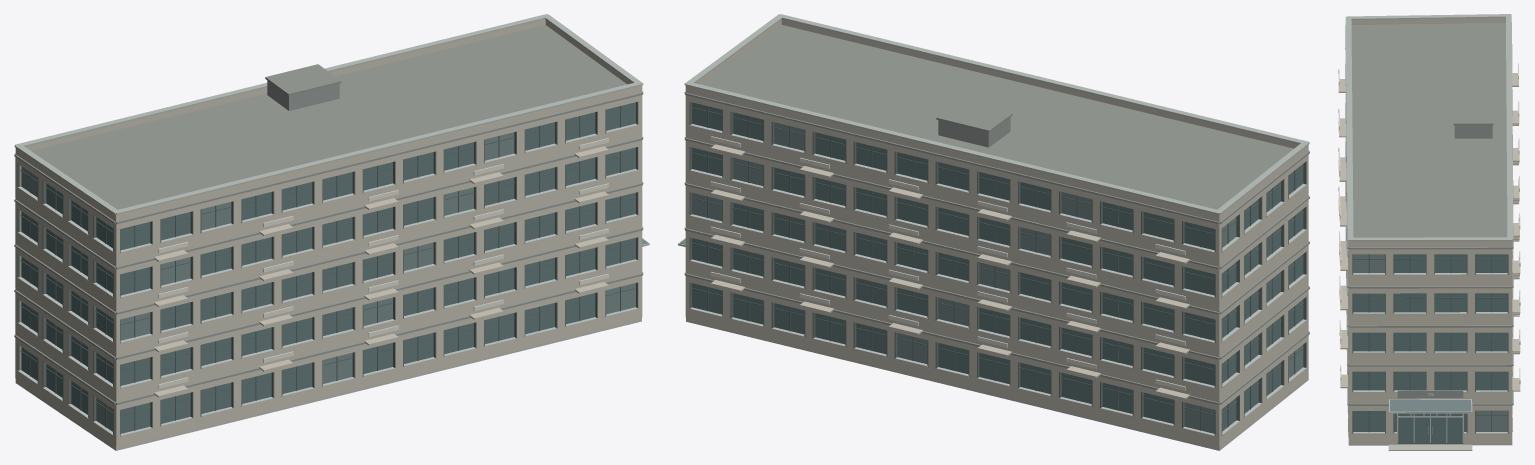
Rendered from mapped_1135360036.glb.
The picture shows the model from 3 angles, left to right: view 1: azimuth 30°, elevation 25°; view 2: azimuth 150°, elevation 25°; view 3: azimuth 270°, elevation 25°; orthographic projection. The views are drawn at different scales.
Visible parts, largest first — view 1: mapped_1135360036_HousingWarm, mapped_1135360036_WindowGlass, mapped_1135360036_FacultyRoof, mapped_1135360036_WindowReveal, mapped_1135360036_FacultyDarkPanel, mapped_1135360036_WindowAluminium, mapped_1135360036_Teaching5TileJoint, mapped_1135360036_WindowGlassLight, mapped_1135360036_WindowRubber, mapped_1135360036_WhiteTrim, mapped_1135360036_EntryStone; view 2: mapped_1135360036_HousingWarm, mapped_1135360036_WindowGlass, mapped_1135360036_FacultyRoof, mapped_1135360036_WindowReveal, mapped_1135360036_WindowAluminium, mapped_1135360036_FacultyDarkPanel, mapped_1135360036_Teaching5TileJoint, mapped_1135360036_WindowRubber, mapped_1135360036_WindowGlassLight, mapped_1135360036_WhiteTrim, mapped_1135360036_EntryStone; view 3: mapped_1135360036_FacultyRoof, mapped_1135360036_HousingWarm, mapped_1135360036_WindowGlass, mapped_1135360036_Teaching5TileJoint, mapped_1135360036_FacultyDarkPanel, mapped_1135360036_WindowAluminium, mapped_1135360036_WindowGlassLight, mapped_1135360036_WindowReveal, mapped_1135360036_WindowRubber, mapped_1135360036_EntryStone, mapped_1135360036_WhiteTrim.
Boxes of the visible parts, bbox=[...] form: mapped_1135360036_HousingWarm: bbox=[15, 19, 642, 448]; mapped_1135360036_WindowGlass: bbox=[21, 102, 635, 433]; mapped_1135360036_FacultyRoof: bbox=[31, 25, 626, 209]; mapped_1135360036_WindowReveal: bbox=[17, 101, 638, 436]; mapped_1135360036_FacultyDarkPanel: bbox=[14, 80, 643, 404]; mapped_1135360036_WindowAluminium: bbox=[17, 123, 649, 436]; mapped_1135360036_Teaching5TileJoint: bbox=[14, 14, 643, 214]; mapped_1135360036_WindowGlassLight: bbox=[21, 132, 647, 431]; mapped_1135360036_WindowRubber: bbox=[20, 106, 636, 430]; mapped_1135360036_WhiteTrim: bbox=[158, 138, 608, 388]; mapped_1135360036_EntryStone: bbox=[15, 319, 641, 450]; mapped_1135360036_HousingWarm: bbox=[685, 19, 1308, 448]; mapped_1135360036_WindowGlass: bbox=[692, 102, 1303, 431]; mapped_1135360036_FacultyRoof: bbox=[701, 25, 1293, 209]; mapped_1135360036_WindowReveal: bbox=[689, 102, 1306, 436]; mapped_1135360036_WindowAluminium: bbox=[678, 124, 1306, 436]; mapped_1135360036_FacultyDarkPanel: bbox=[684, 92, 1309, 404]; mapped_1135360036_Teaching5TileJoint: bbox=[684, 14, 1309, 214]; mapped_1135360036_WindowRubber: bbox=[691, 106, 1303, 430]; mapped_1135360036_WindowGlassLight: bbox=[680, 122, 1303, 433]; mapped_1135360036_WhiteTrim: bbox=[710, 136, 1185, 390]; mapped_1135360036_EntryStone: bbox=[686, 319, 1308, 450]; mapped_1135360036_FacultyRoof: bbox=[1351, 23, 1507, 237]; mapped_1135360036_HousingWarm: bbox=[1338, 18, 1520, 443]; mapped_1135360036_WindowGlass: bbox=[1353, 254, 1507, 442]; mapped_1135360036_Teaching5TileJoint: bbox=[1345, 14, 1513, 241]; mapped_1135360036_FacultyDarkPanel: bbox=[1345, 22, 1513, 405]; mapped_1135360036_WindowAluminium: bbox=[1347, 249, 1512, 442]; mapped_1135360036_WindowGlassLight: bbox=[1353, 254, 1507, 431]; mapped_1135360036_WindowReveal: bbox=[1348, 250, 1508, 443]; mapped_1135360036_WindowRubber: bbox=[1353, 254, 1507, 432]; mapped_1135360036_EntryStone: bbox=[1348, 443, 1512, 450]; mapped_1135360036_WhiteTrim: bbox=[1338, 63, 1520, 384].
Bounding box in the file's own units: 44.76 × 19.28 × 14.42.
